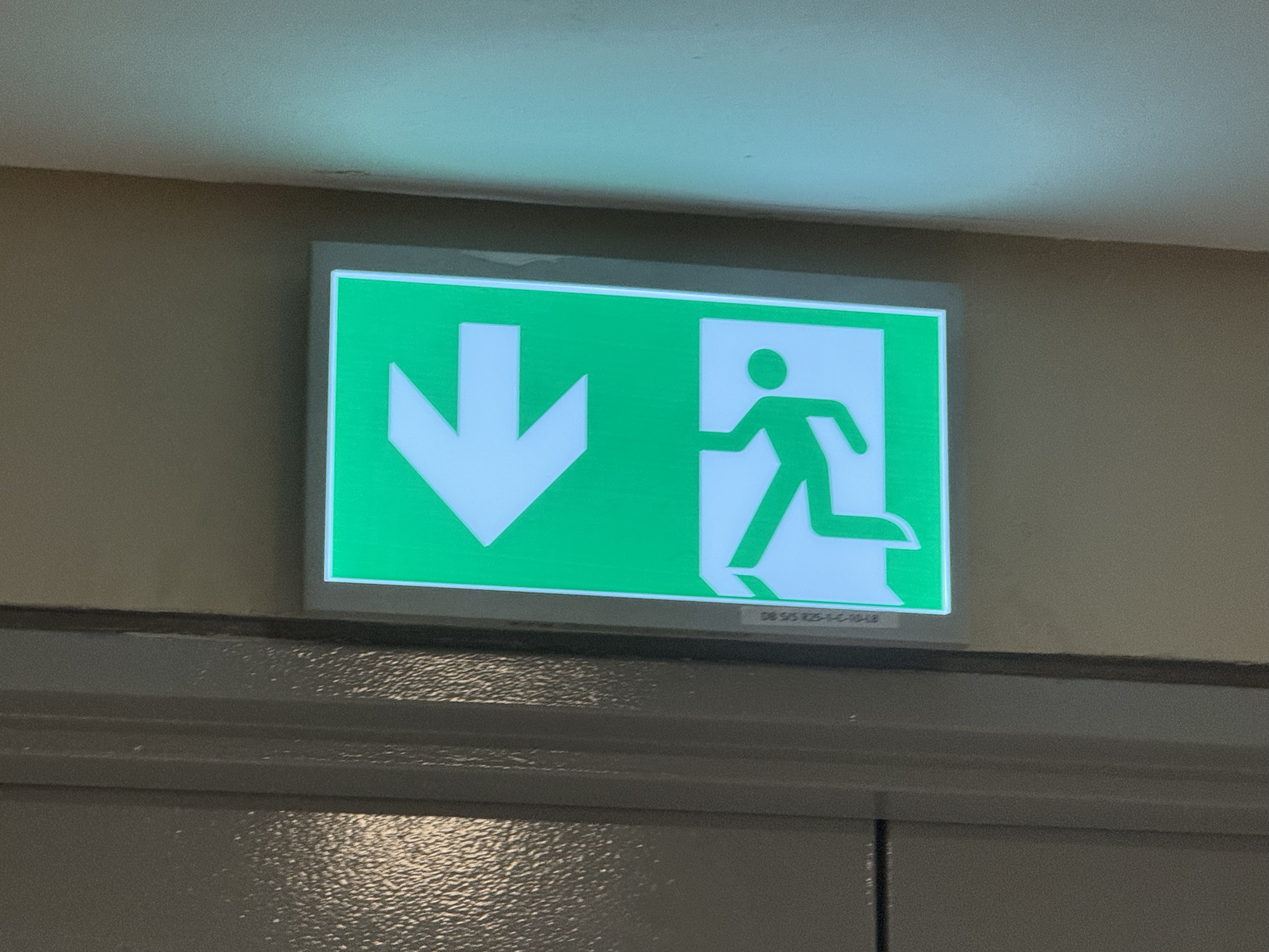emergency_exit: (303, 244, 970, 648)
